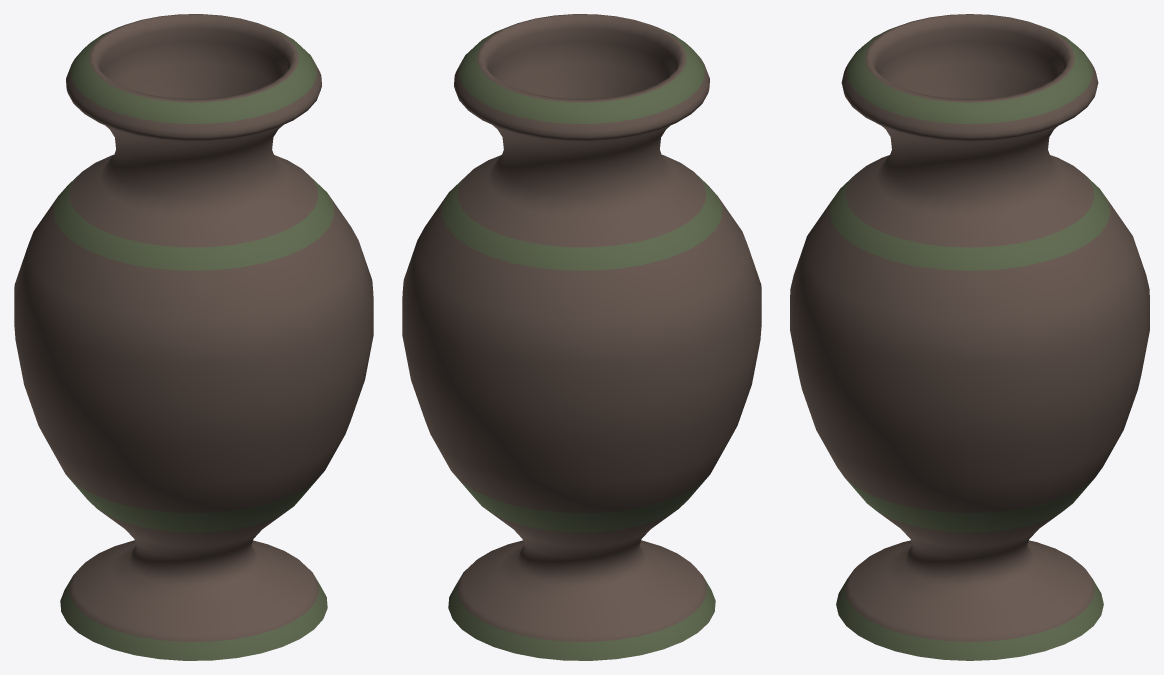
Rendered from pot01.fbx.
3 renders of one model, left to right at view 1: azimuth 30°, elevation 25°; view 2: azimuth 150°, elevation 25°; view 3: azimuth 270°, elevation 25°, orthographic.
Parts seen in each view (by area): view 1: pot01; view 2: pot01; view 3: pot01.
Part boxes in pixels (box(x1,y1,x2,y2)): pot01: box(14, 14, 373, 660); pot01: box(402, 14, 761, 660); pot01: box(790, 14, 1149, 660).
Bounding box in the file's own units: 0.4682 × 0.7855 × 0.4682.
